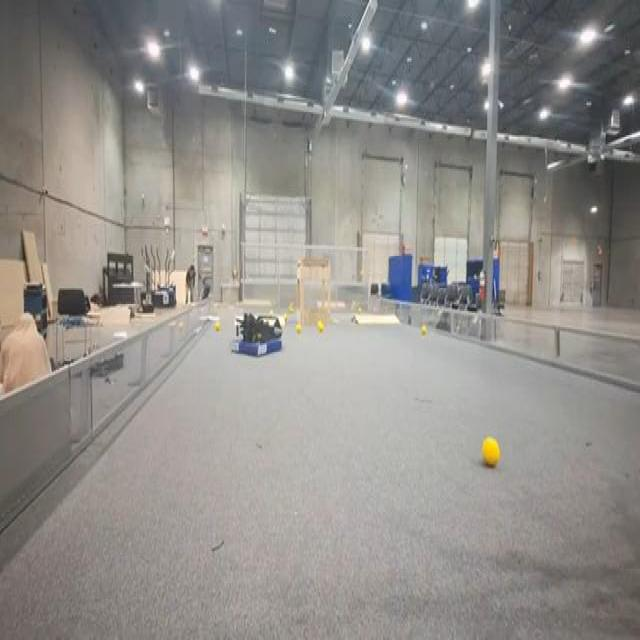Fuel: (482, 438, 500, 468), (482, 437, 500, 467), (317, 321, 324, 332), (317, 320, 323, 331), (421, 326, 427, 335), (296, 323, 301, 332), (215, 322, 220, 331), (421, 326, 426, 334)
